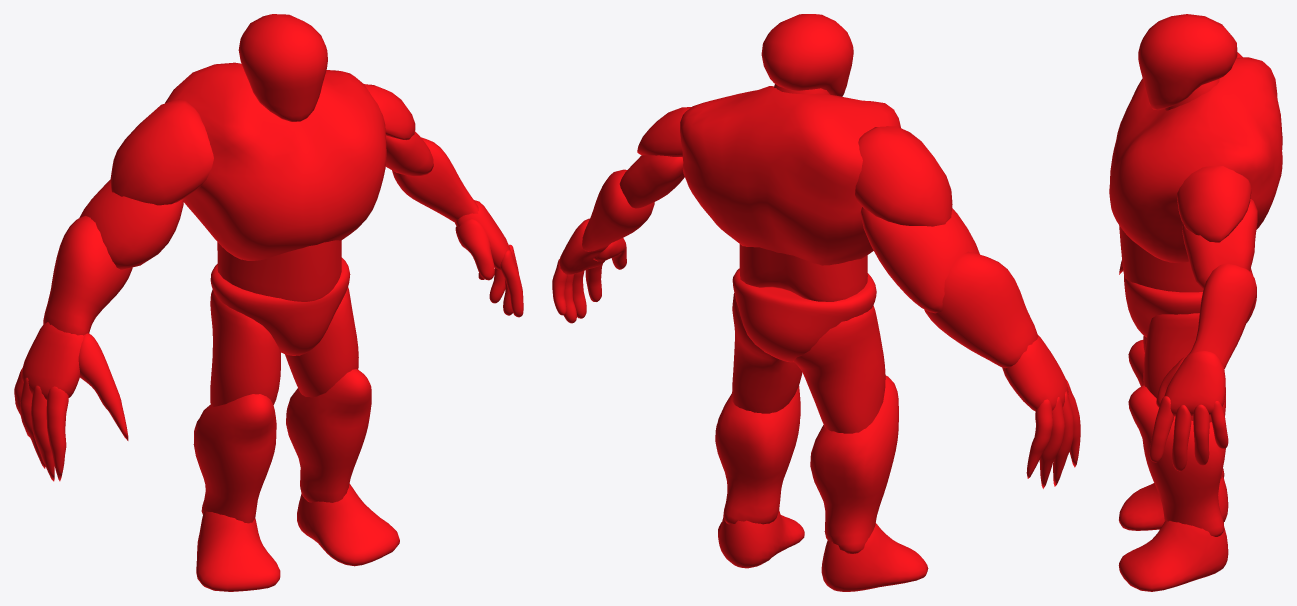
Rendered from Brute.fbx.
3 views of the same model, side by side, from view 1: azimuth 30°, elevation 25°; view 2: azimuth 150°, elevation 25°; view 3: azimuth 270°, elevation 25° (orthographic). The views are drawn at different scales.
Parts seen in each view (by area): view 1: Group64608; view 2: Group64608; view 3: Group64608.
Boxes of the visible parts, box(x1,y1,x2,y2) form: Group64608: box(14, 14, 523, 591); Group64608: box(552, 14, 1080, 591); Group64608: box(1109, 14, 1282, 591).
Size of the model in its own units: 229 by 239 by 70.83.
